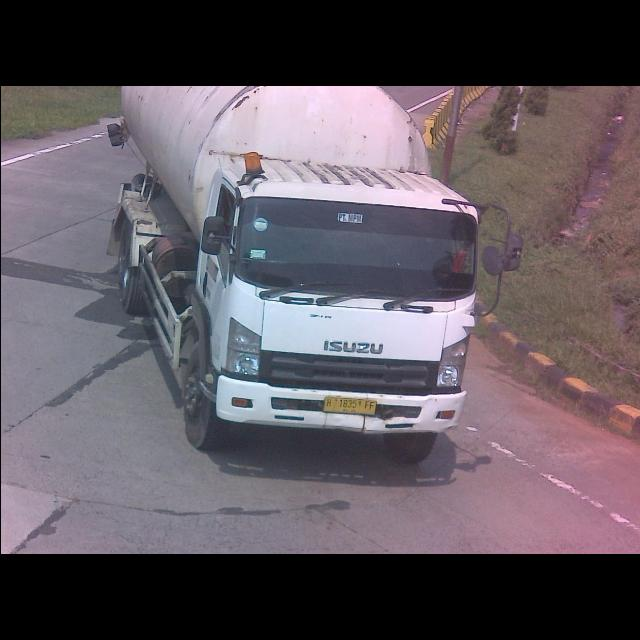plate: (324, 394, 381, 418)
